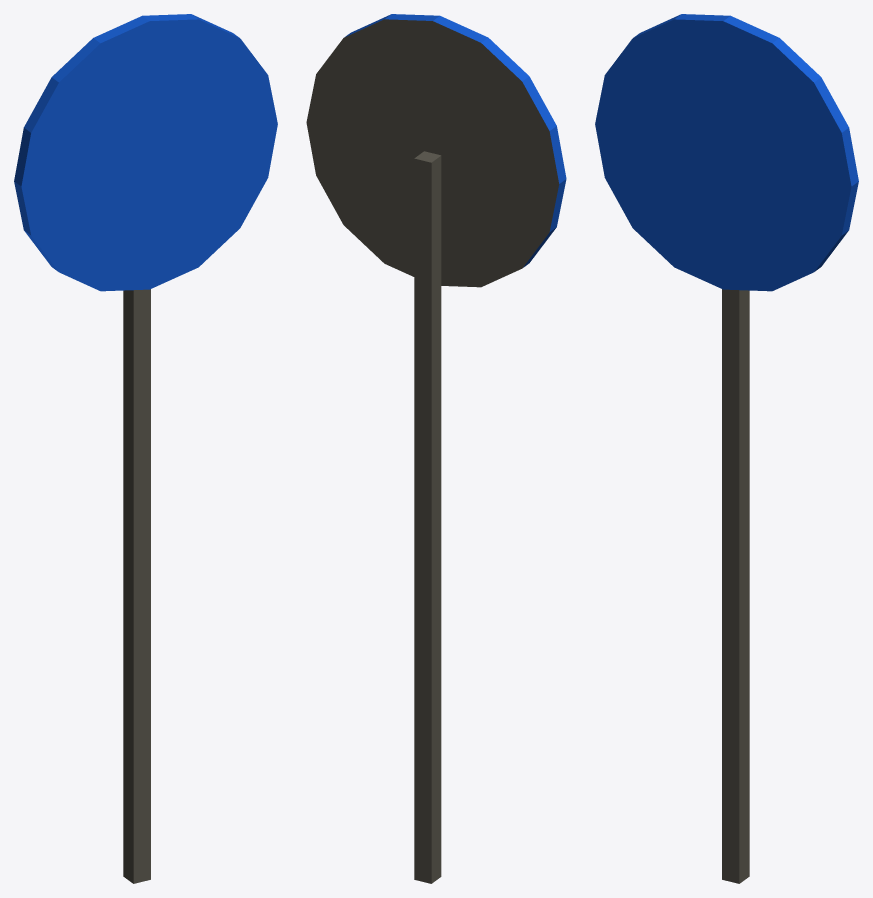
Rendered from CitySignGiveInfo.fbx.
3 renders of one model, left to right at view 1: azimuth 30°, elevation 25°; view 2: azimuth 150°, elevation 25°; view 3: azimuth 330°, elevation 25°, orthographic.
Parts seen in each view (by area): view 1: CitySignGiveInfo; view 2: CitySignGiveInfo; view 3: CitySignGiveInfo.
Part boxes in pixels (left/top/right/bottom): CitySignGiveInfo: left=14, top=14, right=277, bottom=883; CitySignGiveInfo: left=306, top=14, right=566, bottom=883; CitySignGiveInfo: left=595, top=14, right=858, bottom=883.
Bounding box in the file's own units: 0.1322 × 0.4266 × 0.0156.
